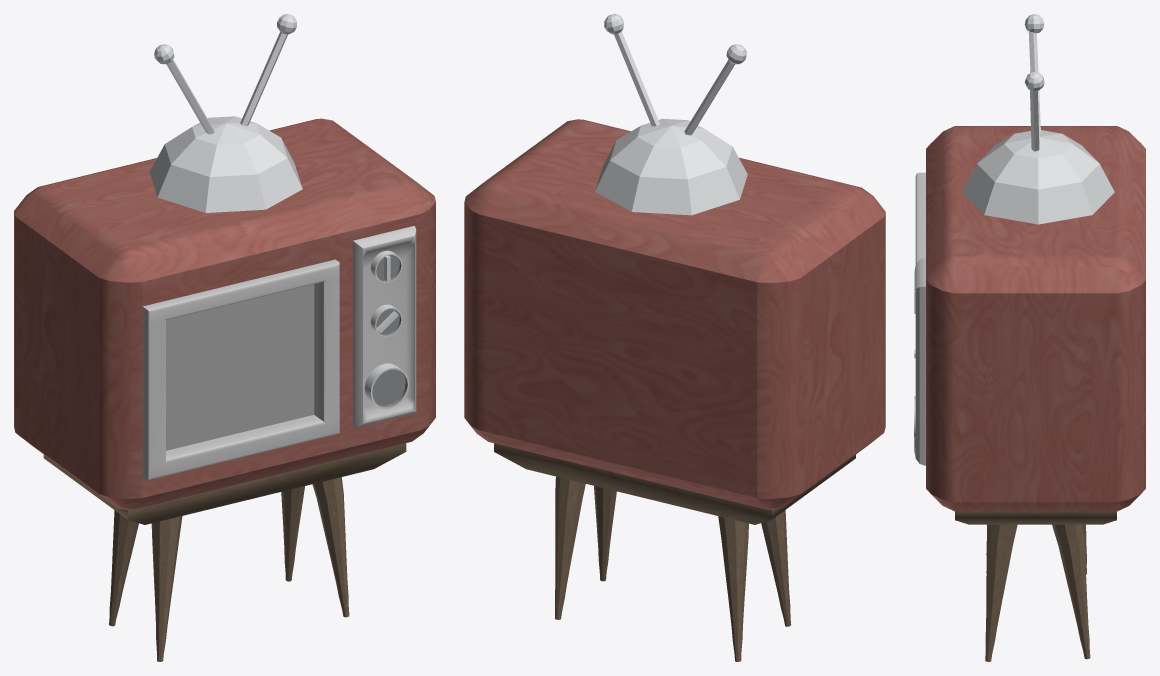
The model's file is TV_Combo.fbx.
3 views of the same model, side by side, from view 1: azimuth 30°, elevation 25°; view 2: azimuth 150°, elevation 25°; view 3: azimuth 270°, elevation 25° (orthographic). The views are drawn at different scales.
Visible parts, largest first — view 1: Combined_TV; view 2: Combined_TV; view 3: Combined_TV.
Part boxes in pixels (x1,y1,x2,y2): Combined_TV: (14, 14, 435, 661); Combined_TV: (464, 14, 885, 661); Combined_TV: (914, 14, 1145, 661).
Size of the model in its own units: 1.7 by 2.87 by 1.05.
